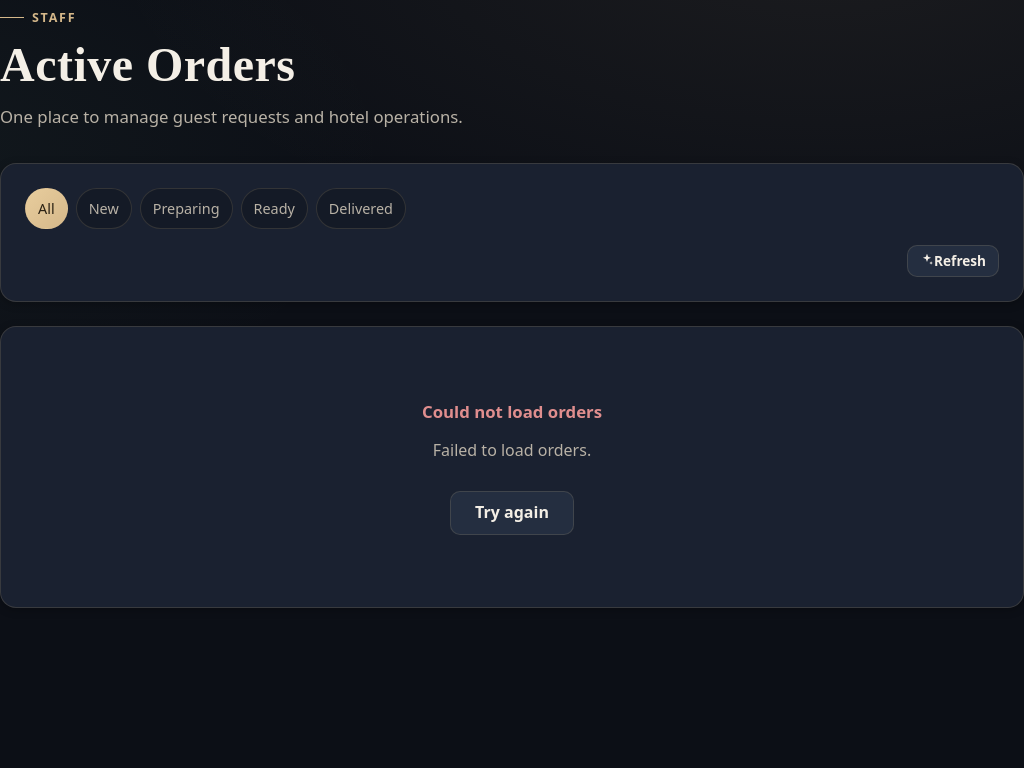
StaffOrdersView › allows retry after error
Expected: the heading "Could not load orders" is shown, x1=422 y1=399 x2=602 y2=426
What coordinates should you click on to do the following:
click the button "Try again"
I would click on:
 (512, 513)
Its box is x1=450 y1=491 x2=574 y2=535.
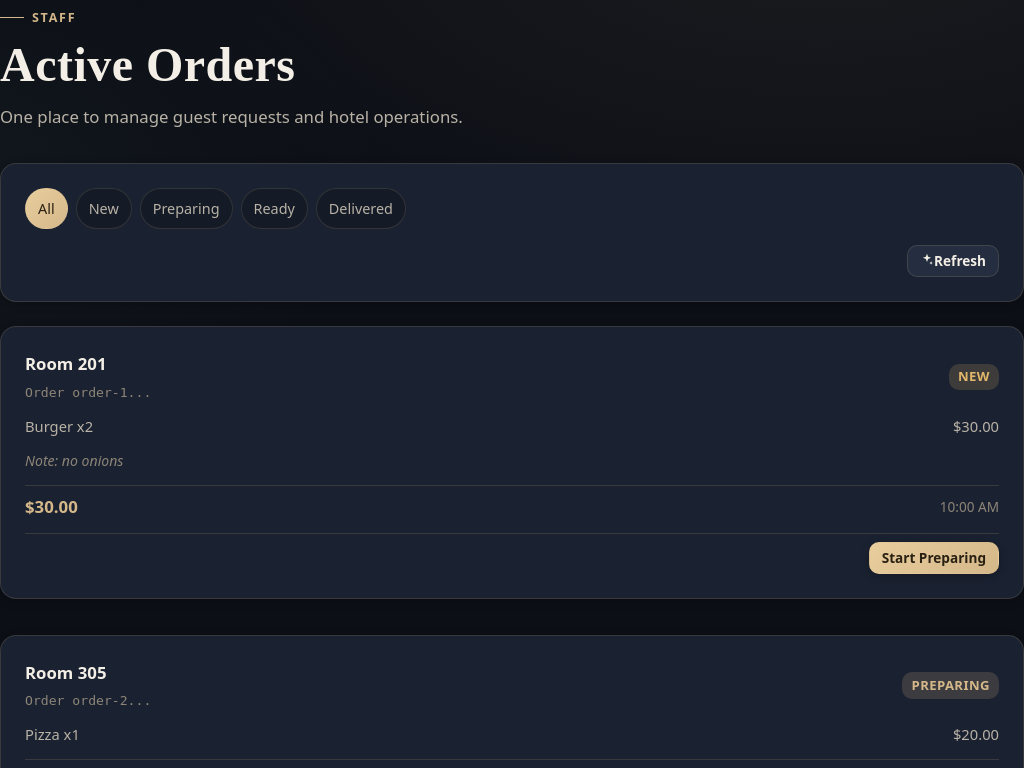
Result: the text "Burger x2" is shown at x1=25 y1=415 x2=93 y2=438
